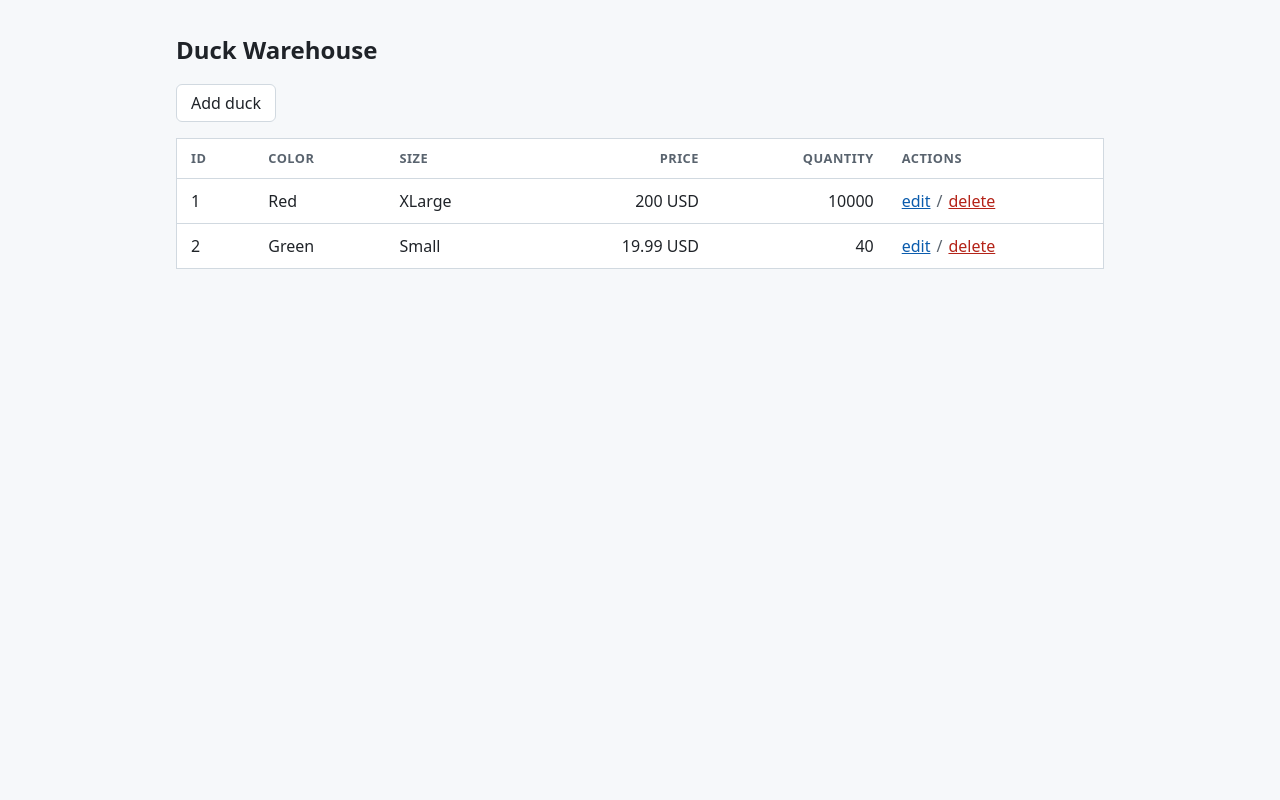
Test case: WarehousePage › deleting a duck › asks for confirmation first, naming the duck
Step 1. Click the button with aria-label "Delete duck 1" → (972, 201), box [948,189,995,213]
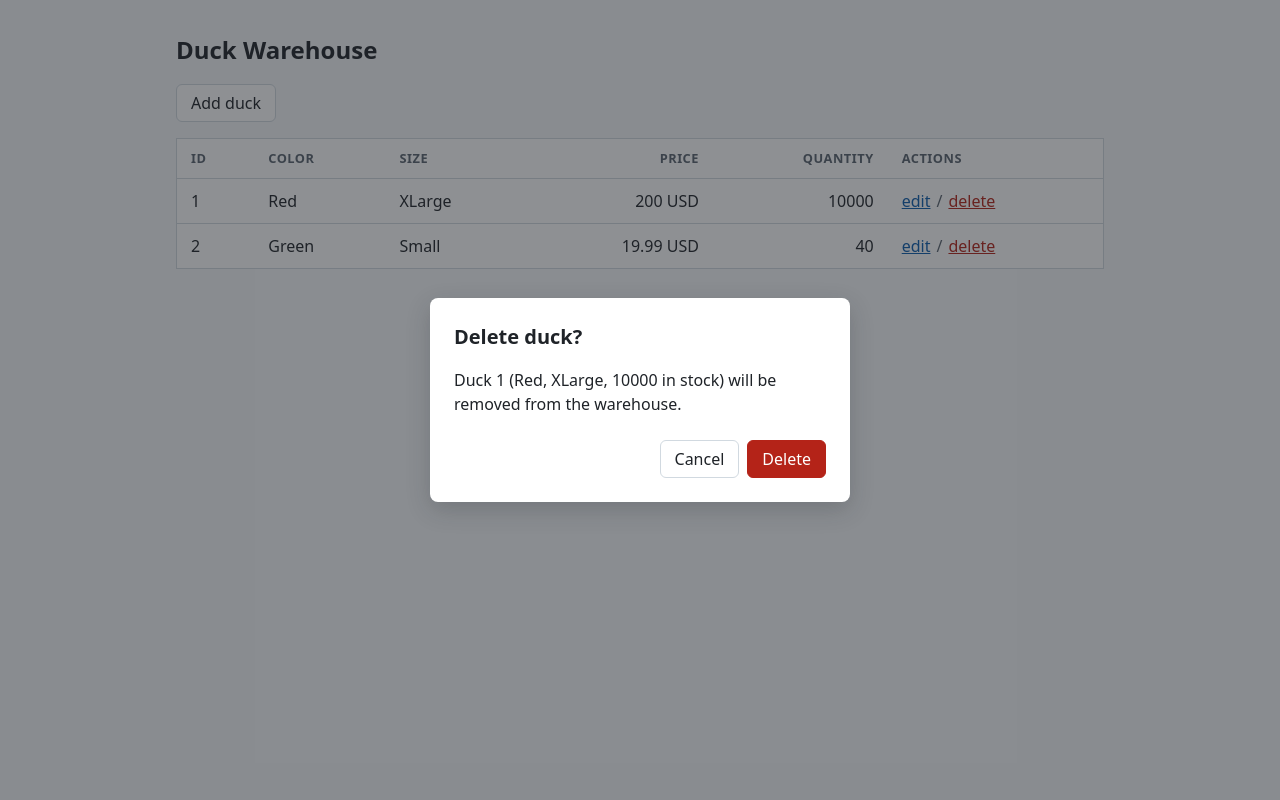
Expected: the dialog "Delete duck?" shows "Duck 1 (Red, XLarge, 10000 in stock)", [430,298,850,502]
